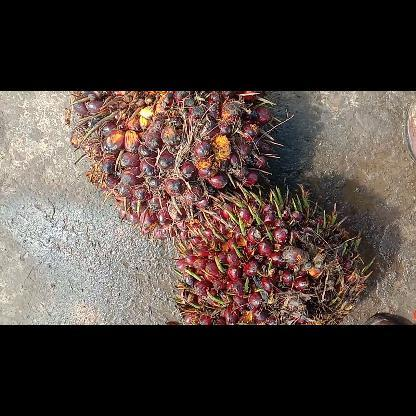Kurang masak: (172, 184, 372, 324)
TBS masak: (68, 90, 282, 240)
